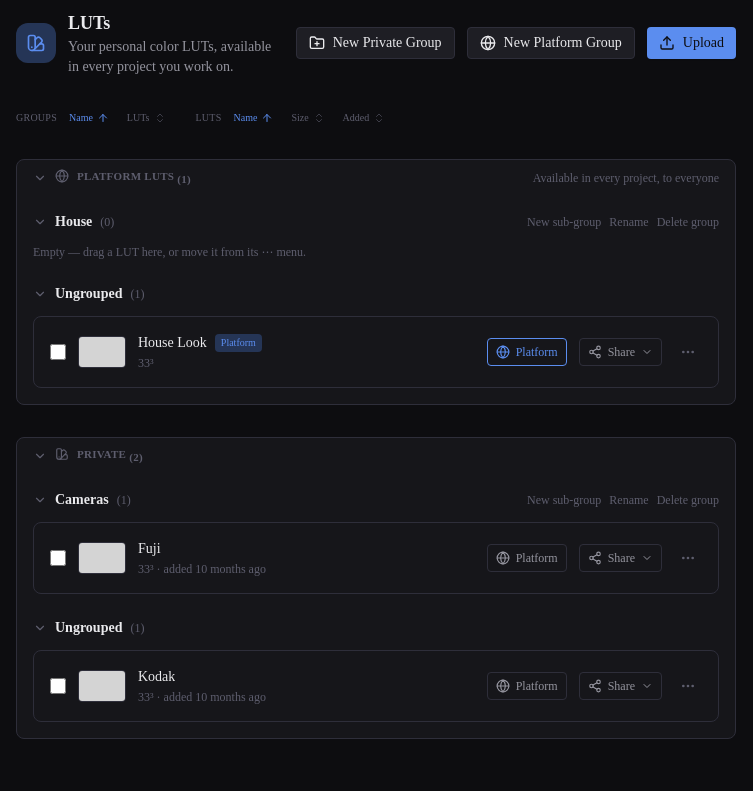
Test: move to group › explains itself instead of guessing on a mixed selection
Click the checkbox named "Select Kodak" at (58, 686), box [50,678,66,694]
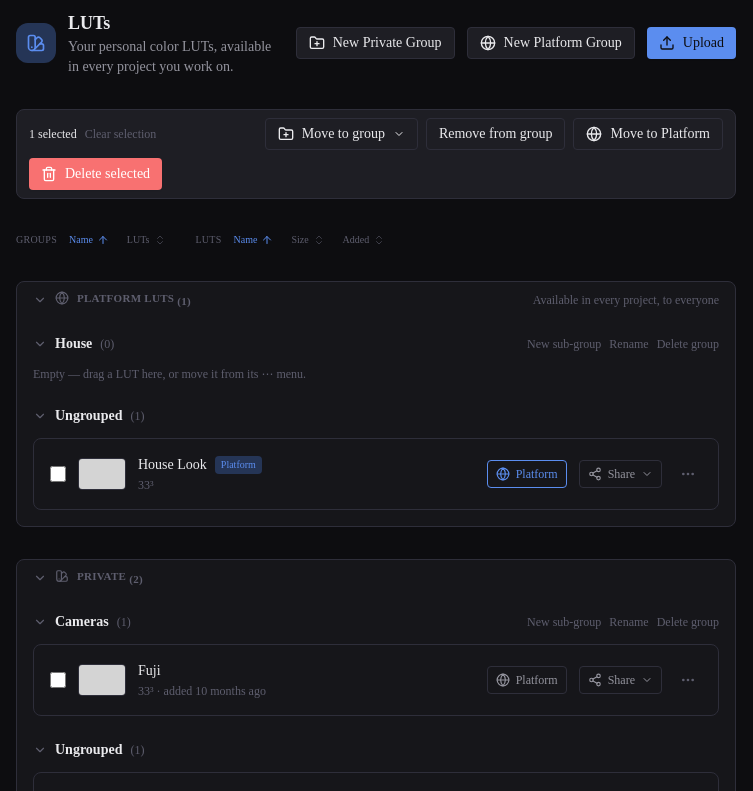
Click the checkbox named "Select House Look" at (58, 474), box [50,466,66,482]
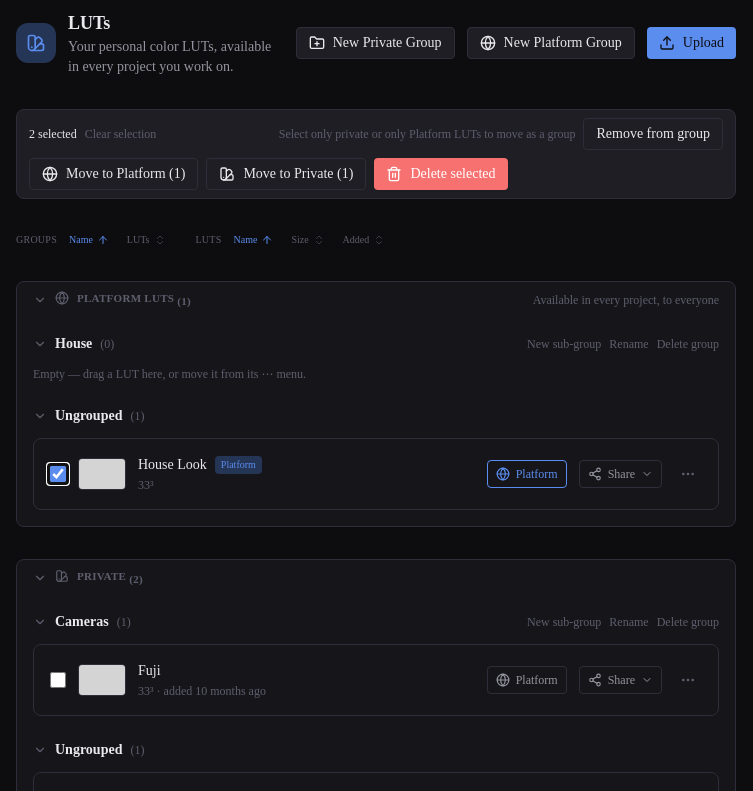
Expected: the button "Move to group" is gone
Expected: the text "Select only private or only Platform LUTs to move as a group" is shown, [279,126,576,142]
